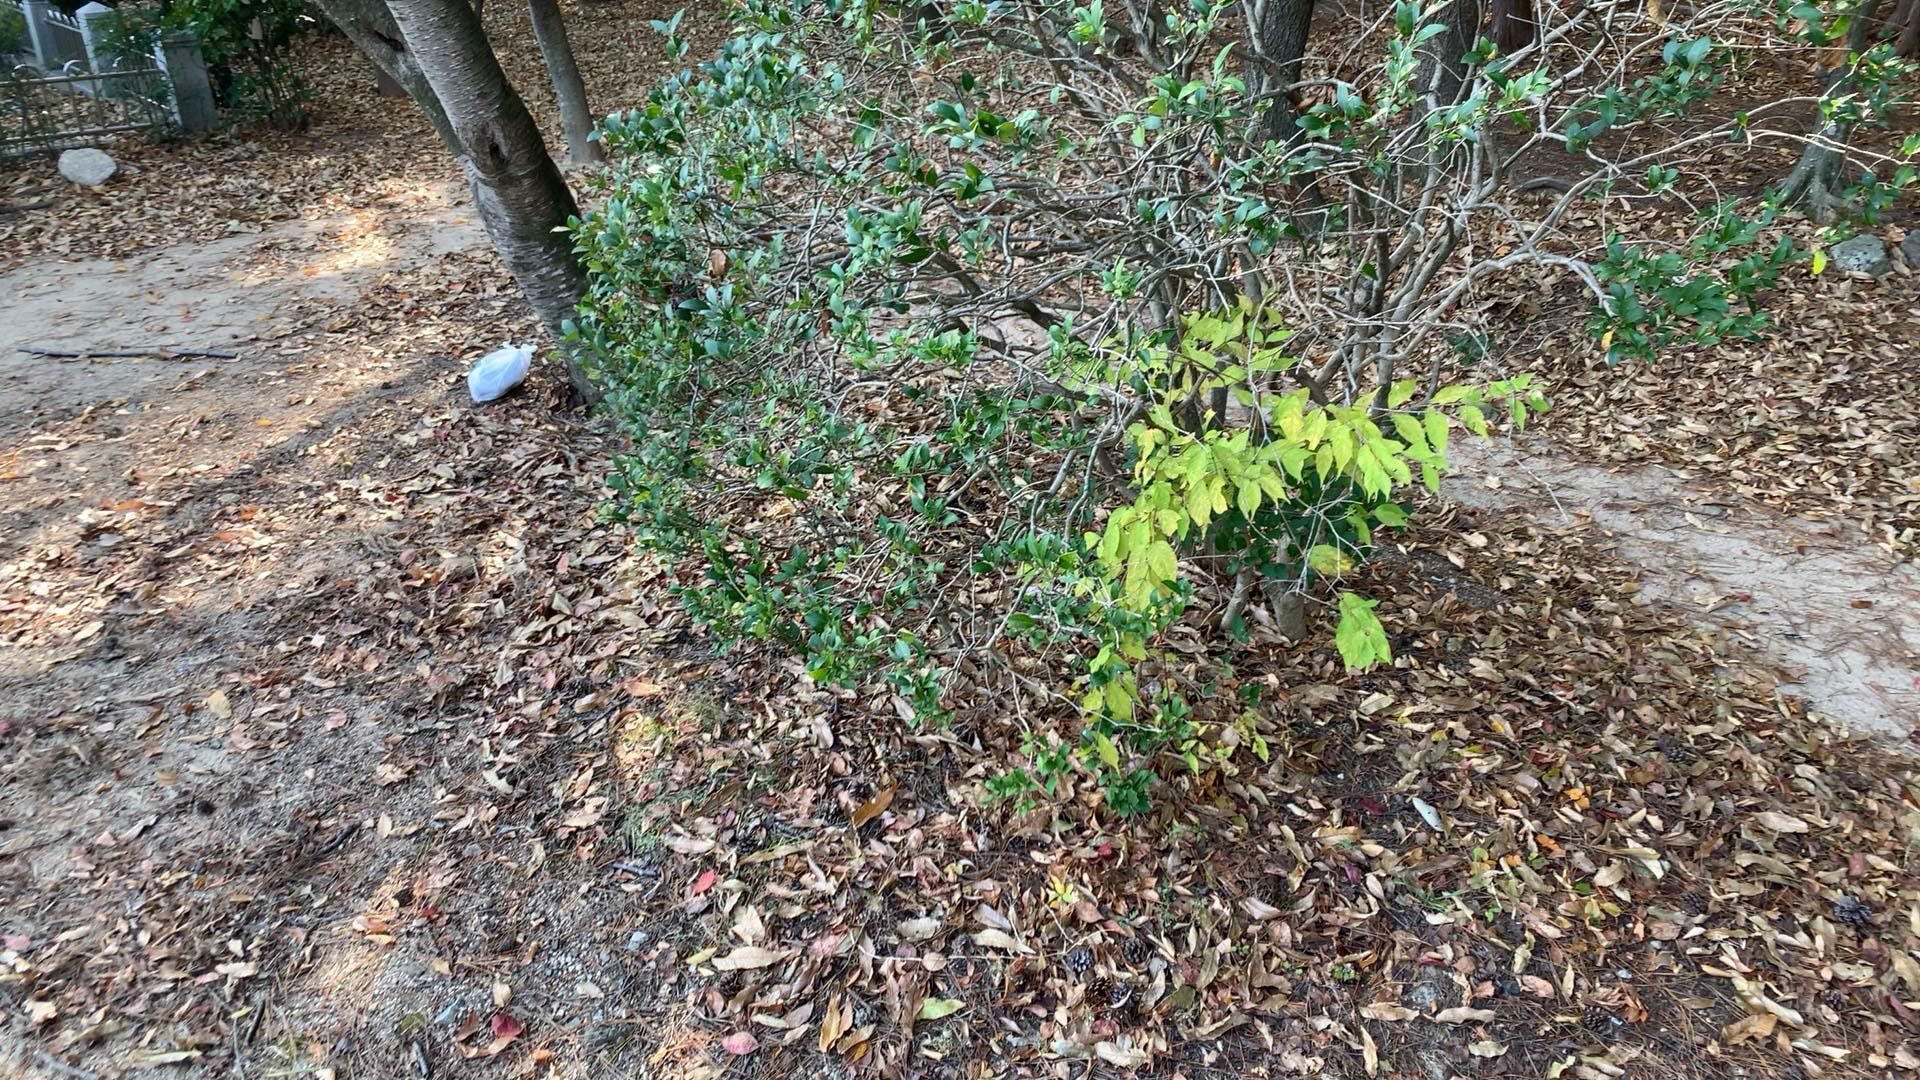white_bag: (462, 335, 541, 404)
